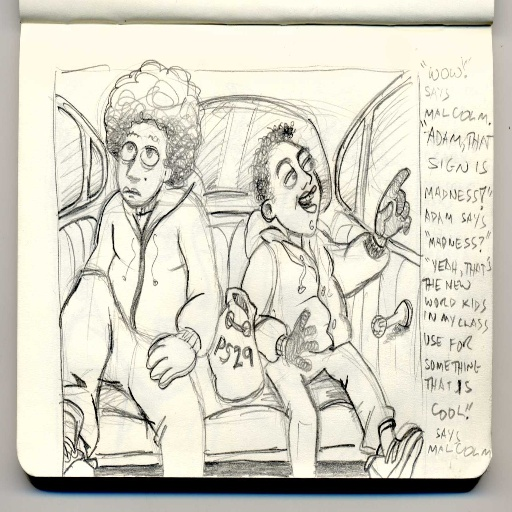hand: (373, 165, 412, 243), (283, 305, 320, 372), (142, 341, 187, 393)
